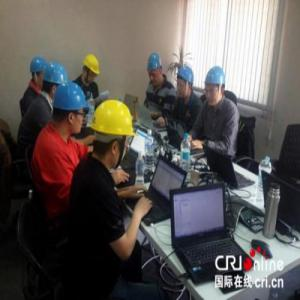blue: (54, 84, 87, 137), (44, 61, 70, 97), (206, 67, 226, 105), (178, 67, 196, 99), (31, 56, 49, 87), (148, 53, 164, 84)
yellow: (92, 99, 133, 164), (83, 53, 101, 84)
